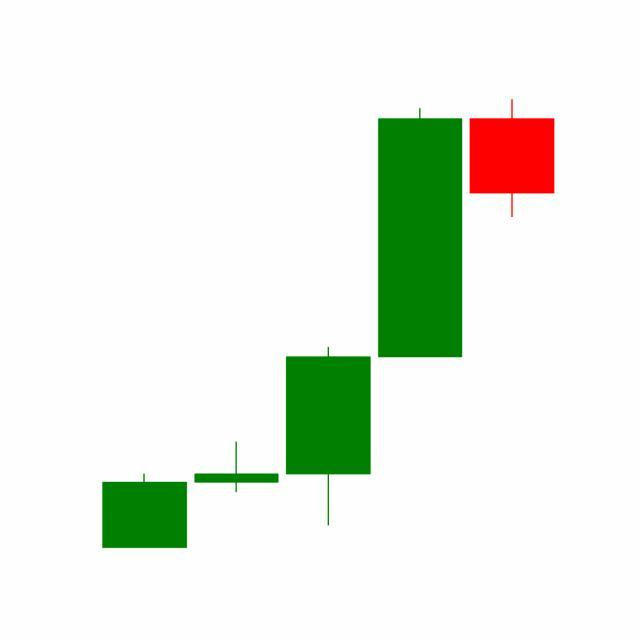Marubozu: (374, 106, 468, 361)
